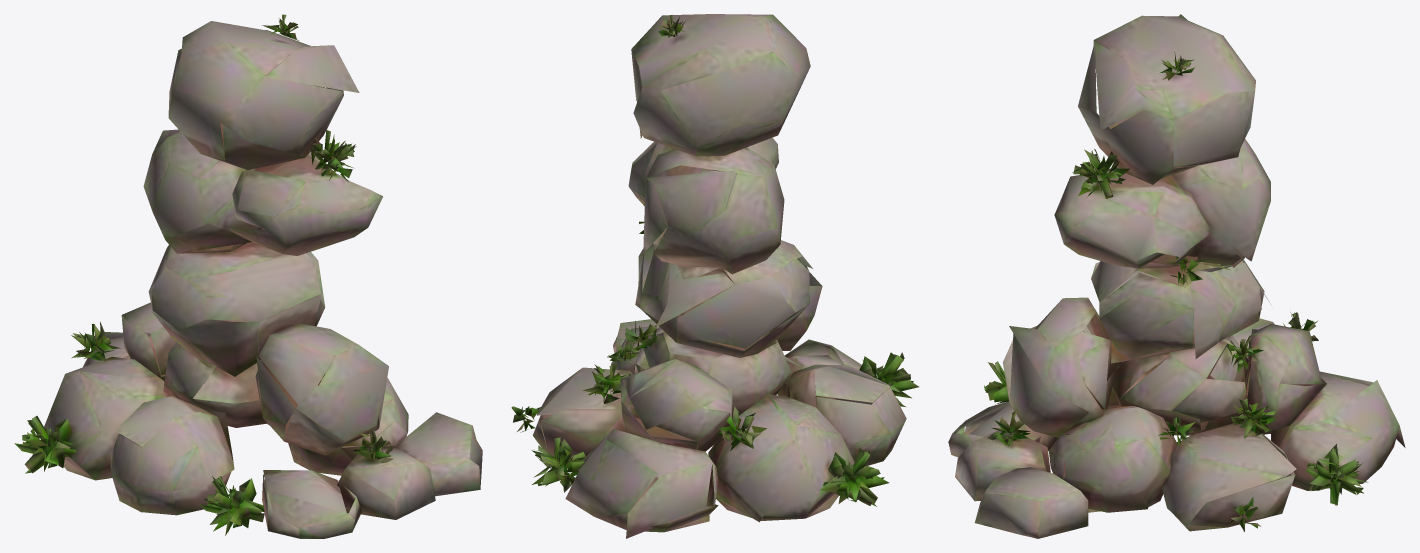
Rendered from stat_cairn.glb.
3 views of the same model, side by side, from view 1: azimuth 30°, elevation 25°; view 2: azimuth 150°, elevation 25°; view 3: azimuth 270°, elevation 25° (orthographic).
Visible parts, largest first — view 1: tripo_node_04115dae-aeb7-48c1-9287-985a83bd8695; view 2: tripo_node_04115dae-aeb7-48c1-9287-985a83bd8695; view 3: tripo_node_04115dae-aeb7-48c1-9287-985a83bd8695.
Part boxes in pixels (left/top/right/bottom): tripo_node_04115dae-aeb7-48c1-9287-985a83bd8695: left=14, top=14, right=482, bottom=538; tripo_node_04115dae-aeb7-48c1-9287-985a83bd8695: left=511, top=14, right=918, bottom=538; tripo_node_04115dae-aeb7-48c1-9287-985a83bd8695: left=948, top=14, right=1405, bottom=538.
Bounding box in the file's own units: 0.8767 × 1.01 × 0.9518.
Materials: 1 (1 with a texture image).
